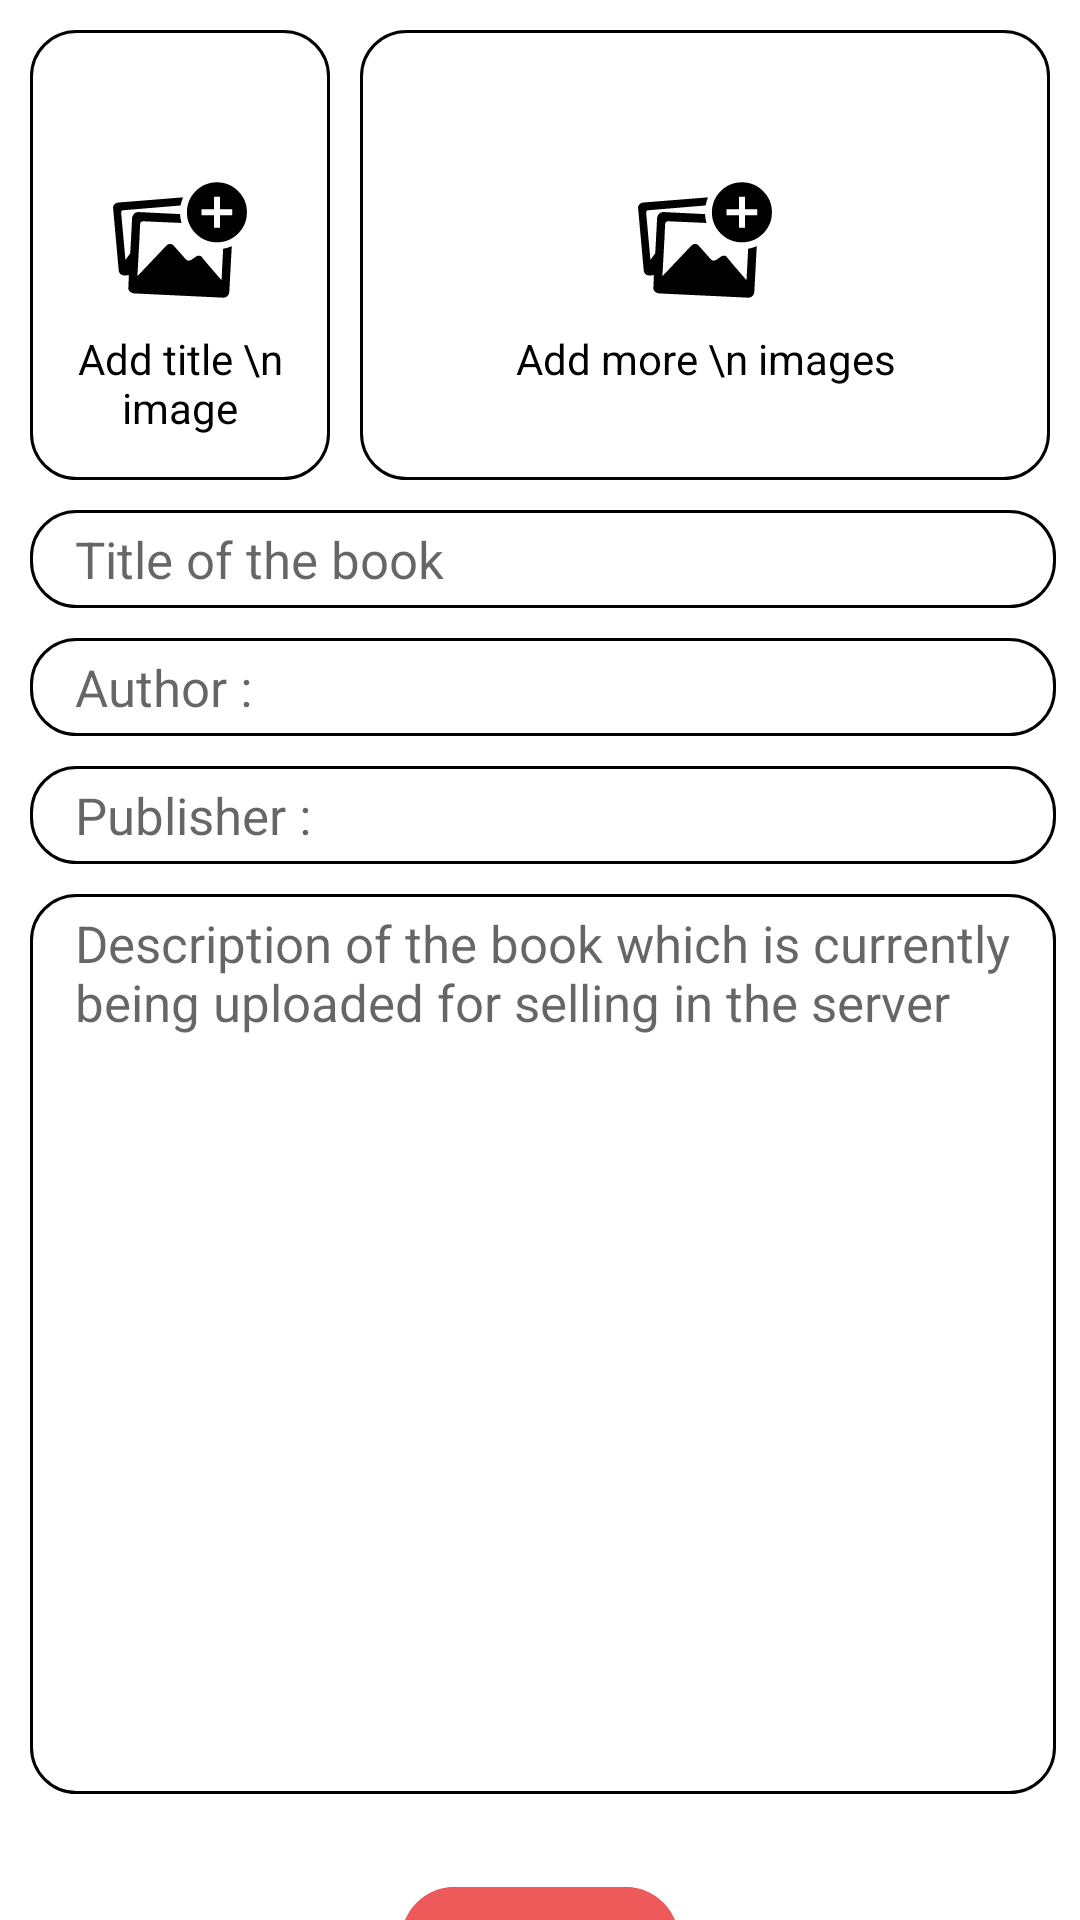

Locate icon controls on the screen. Image size 1080px×1920px, boxes as (x1, y1, x2, y2).
noun add: (113, 182, 247, 298), (638, 182, 772, 298)
